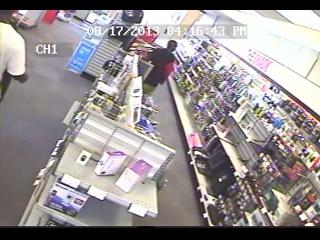Normal: (0, 13, 29, 103), (140, 40, 178, 95)
